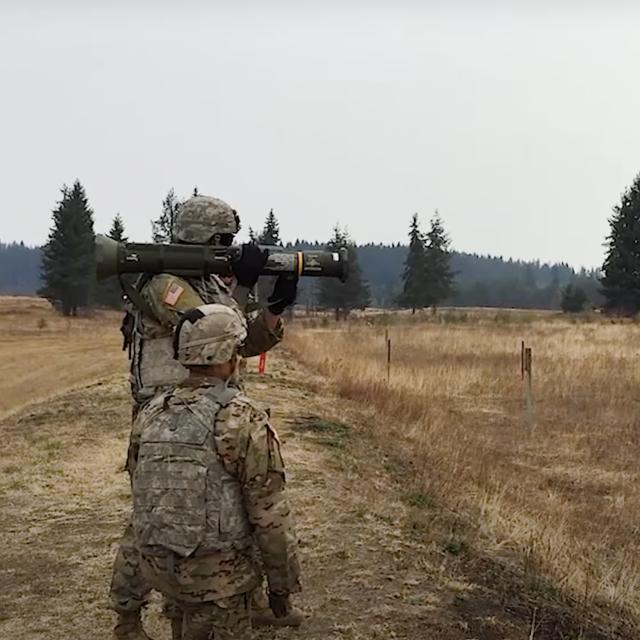bazooka: (109, 221, 361, 293)
